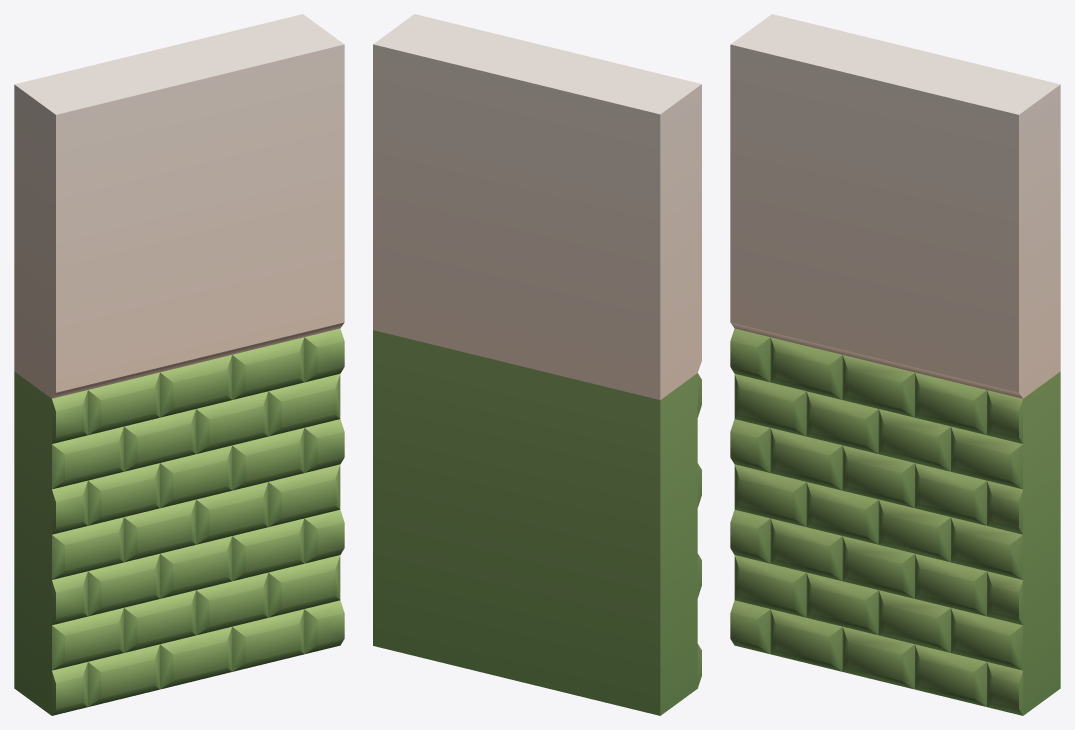
The model's file is Wall Tiles Kitchen-kmZKEPYWVf.glb.
3 views of the same model, side by side, from view 1: azimuth 30°, elevation 25°; view 2: azimuth 150°, elevation 25°; view 3: azimuth 330°, elevation 25° (orthographic).
Parts seen in each view (by area): view 1: wall_tiles_kitchen_straight; view 2: wall_tiles_kitchen_straight; view 3: wall_tiles_kitchen_straight.
Boxes of the visible parts, left/top/right/bottom form: wall_tiles_kitchen_straight: left=14, top=14, right=344, bottom=715; wall_tiles_kitchen_straight: left=373, top=14, right=701, bottom=715; wall_tiles_kitchen_straight: left=730, top=14, right=1060, bottom=715.
Size of the model in its own units: 2 by 4 by 0.5.
Materials: 1 (1 with a texture image).
